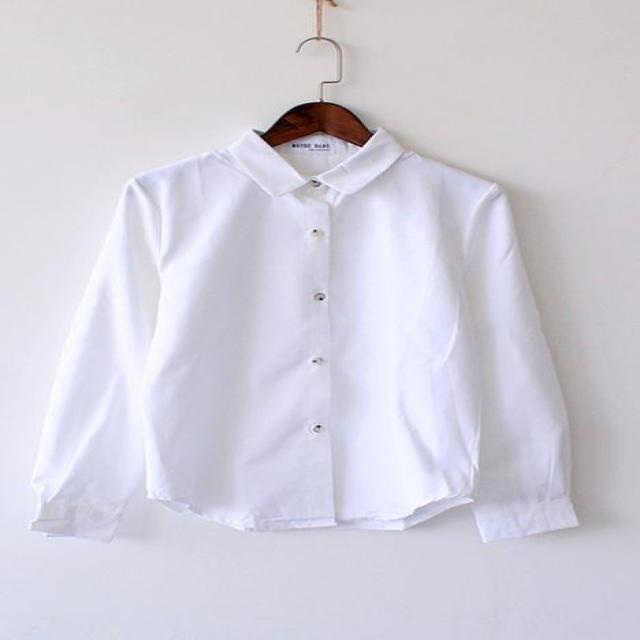long-sleeve-top: (84, 134, 623, 576)
